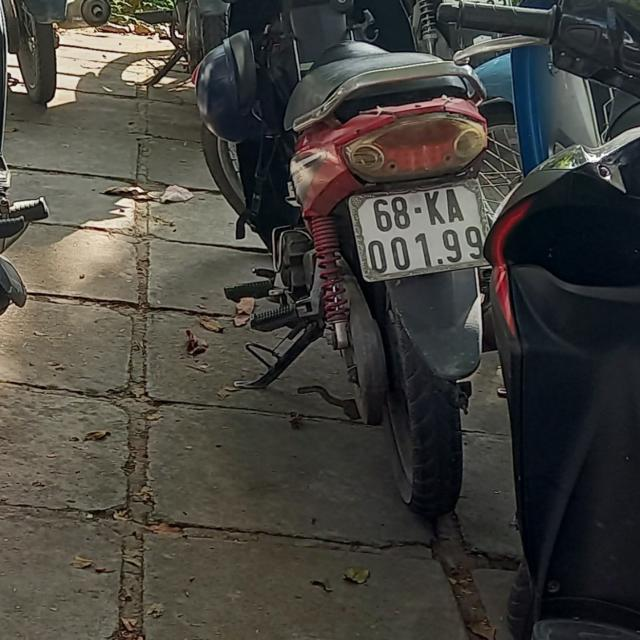0: (392, 236, 411, 270), (368, 240, 387, 272)
1: (415, 233, 432, 267)
6: (372, 198, 392, 232)
8: (392, 196, 411, 229)
9: (443, 228, 462, 262), (466, 225, 483, 259)
A: (445, 188, 464, 222)
K: (425, 190, 445, 226)
